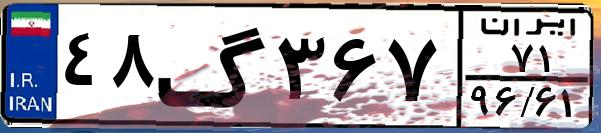1: (560, 70, 590, 125), (537, 27, 568, 80)
3: (270, 28, 330, 110)
4: (57, 26, 110, 100)
6: (330, 28, 385, 110), (495, 70, 520, 125), (535, 70, 560, 125)
7: (385, 28, 445, 110), (508, 27, 537, 80)
8: (110, 28, 156, 98)
9: (470, 70, 495, 125)
گ: (156, 12, 270, 120)
